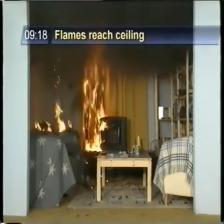fire: (83, 46, 107, 152), (55, 101, 66, 132)
